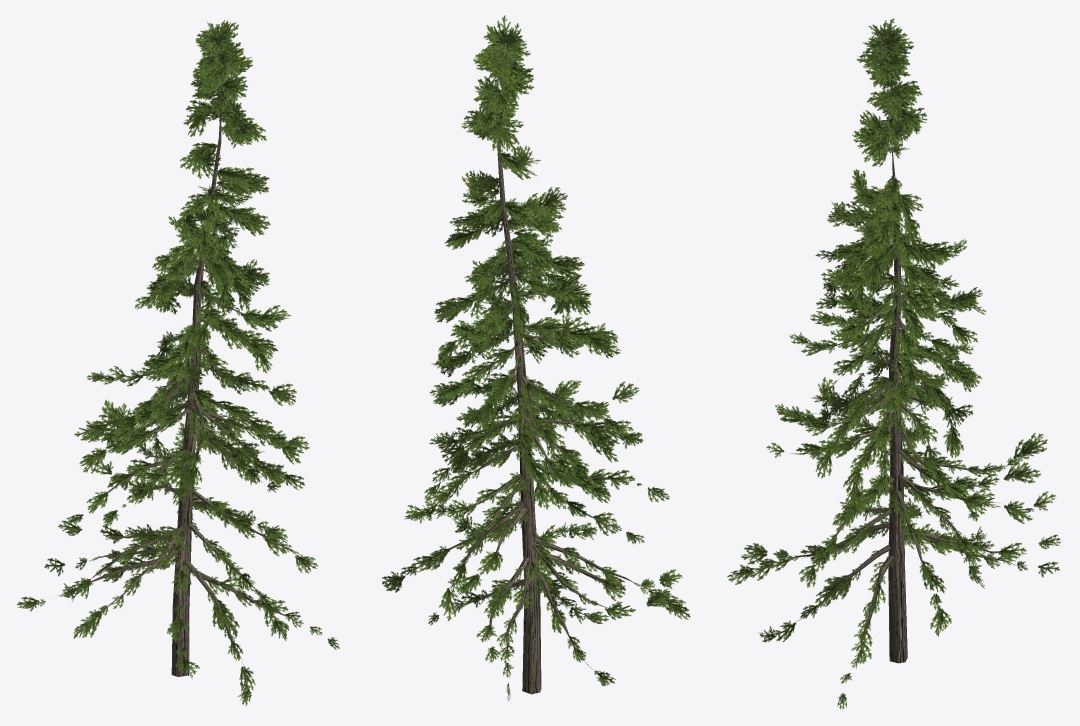
Rendered from pino_joven.glb.
The picture shows the model from 3 angles, left to right: view 1: azimuth 30°, elevation 25°; view 2: azimuth 150°, elevation 25°; view 3: azimuth 270°, elevation 25°; orthographic projection.
Parts seen in each view (by area): view 1: pino_joven_hojas, pino_joven_ramas; view 2: pino_joven_hojas, pino_joven_ramas; view 3: pino_joven_hojas, pino_joven_ramas.
Part boxes in pixels (bbox=[...]): pino_joven_hojas: bbox=[17, 20, 339, 706]; pino_joven_ramas: bbox=[58, 89, 296, 676]; pino_joven_hojas: bbox=[382, 15, 690, 701]; pino_joven_ramas: bbox=[437, 114, 633, 694]; pino_joven_hojas: bbox=[727, 18, 1060, 709]; pino_joven_ramas: bbox=[786, 118, 1012, 663].
Size of the model in its own units: 2.71 by 6.22 by 2.94.
2 materials, 2 textured.
